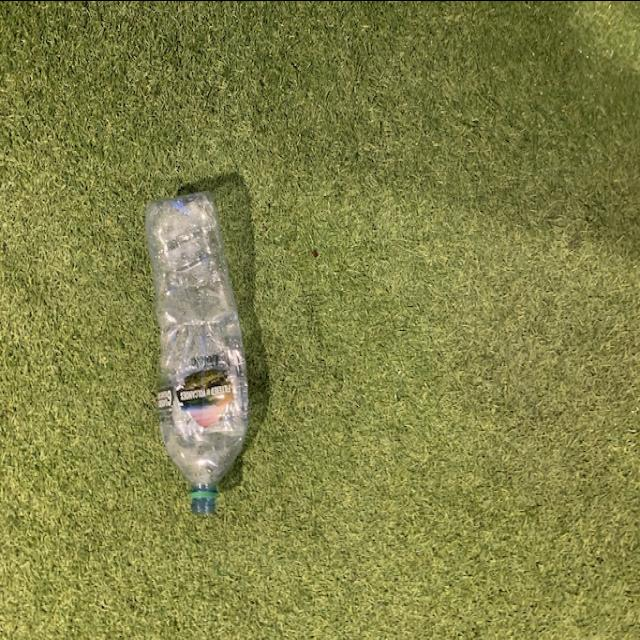PET: (143, 180, 250, 518)
